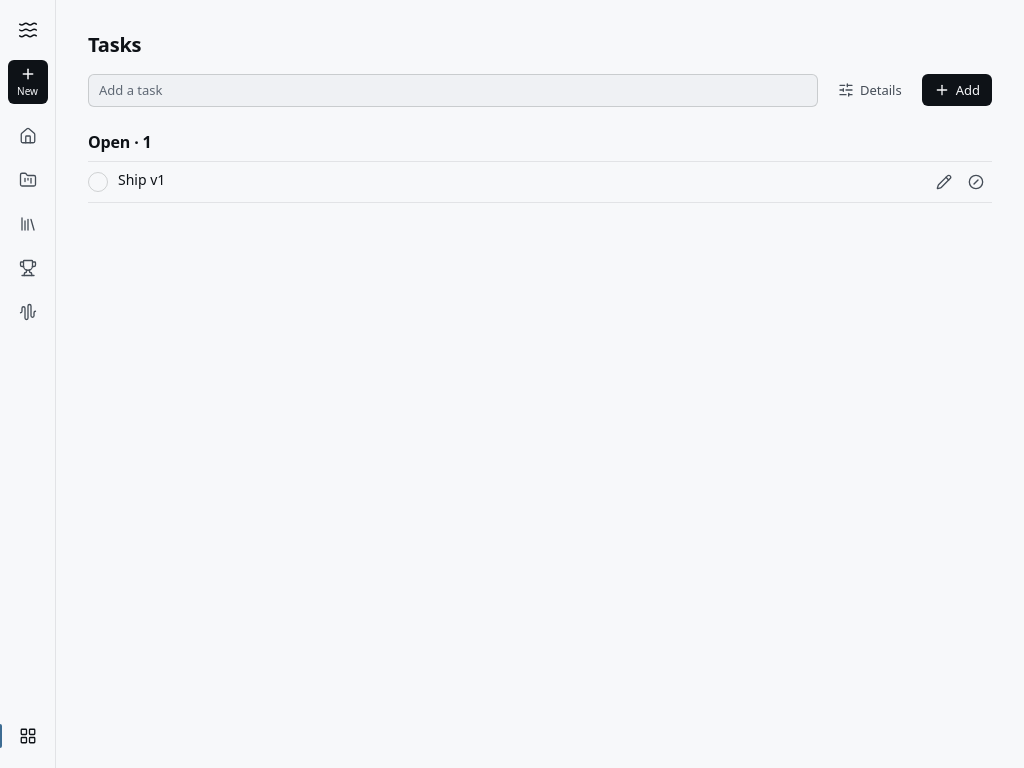
Test case: v2.1 creation and editing in the app › adds subtasks from the task editor and shows them under their parent
Expected: the heading "Tasks" is shown, [88,31,141,58]
Click the button named "Edit: Ship v1" at x=944, y=182, box [928,166,960,198]
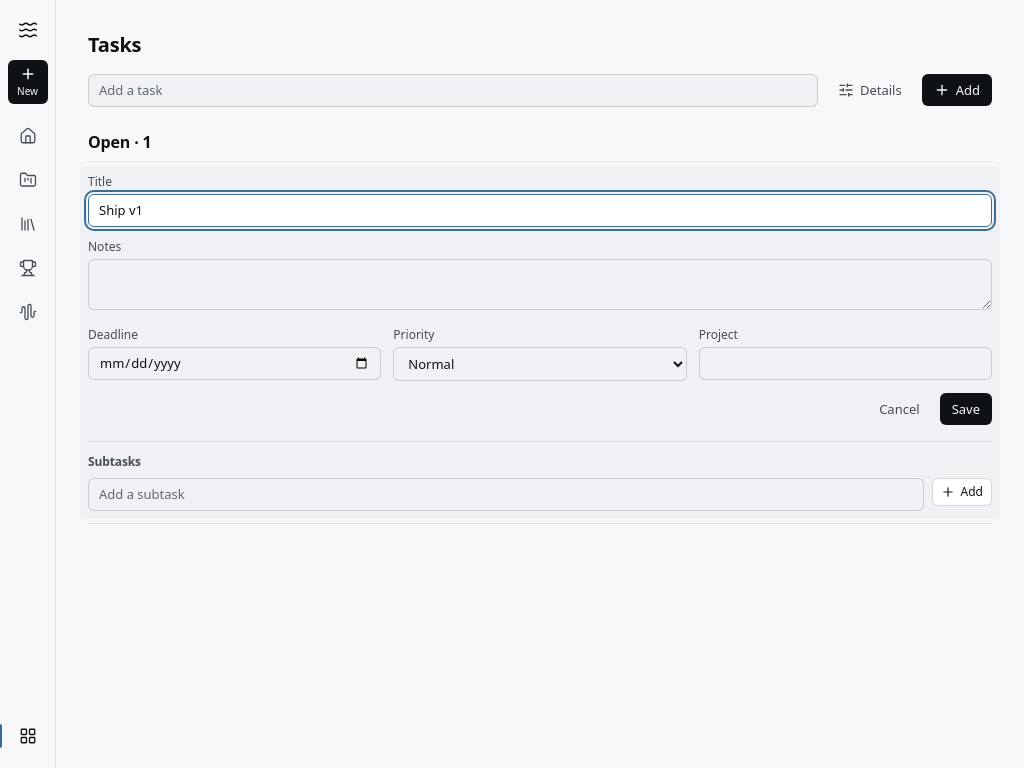
Type "Write docs" into the field labelled "Add a subtask" at x=506, y=494, box [88,478,924,511]
Then press Enter
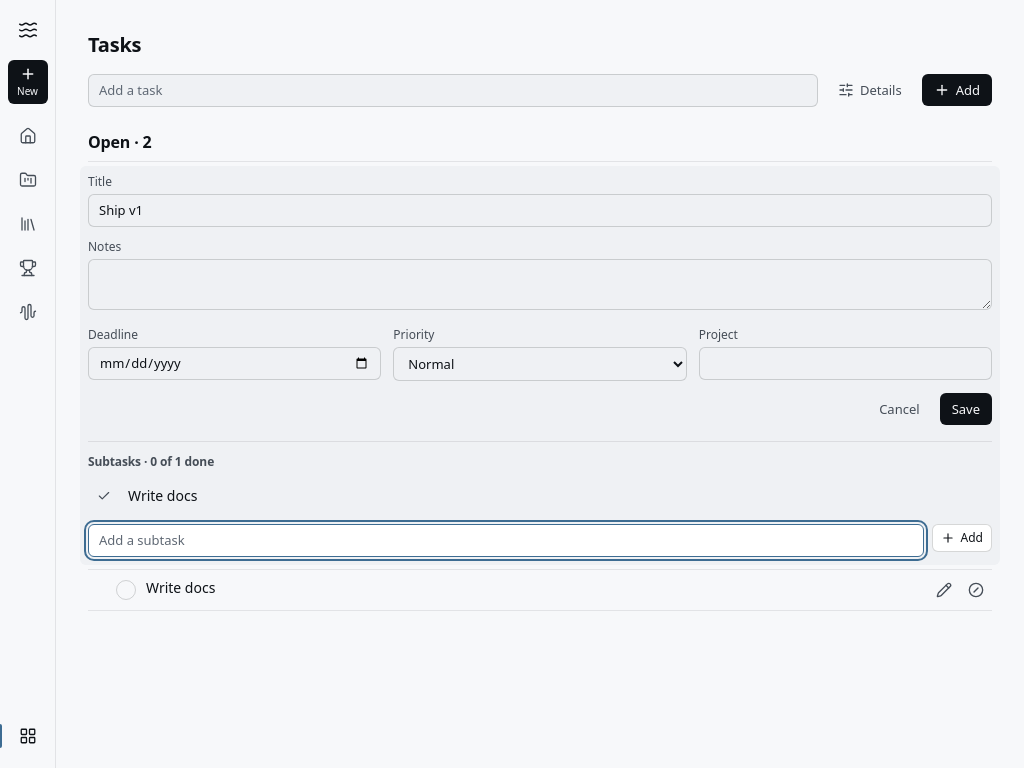
Result: the text "Write docs" below "Subtasks" is shown at [128,486,197,505]
Click the button named "Complete: Write docs" below "Subtasks" at x=104, y=496, box [88,480,120,512]
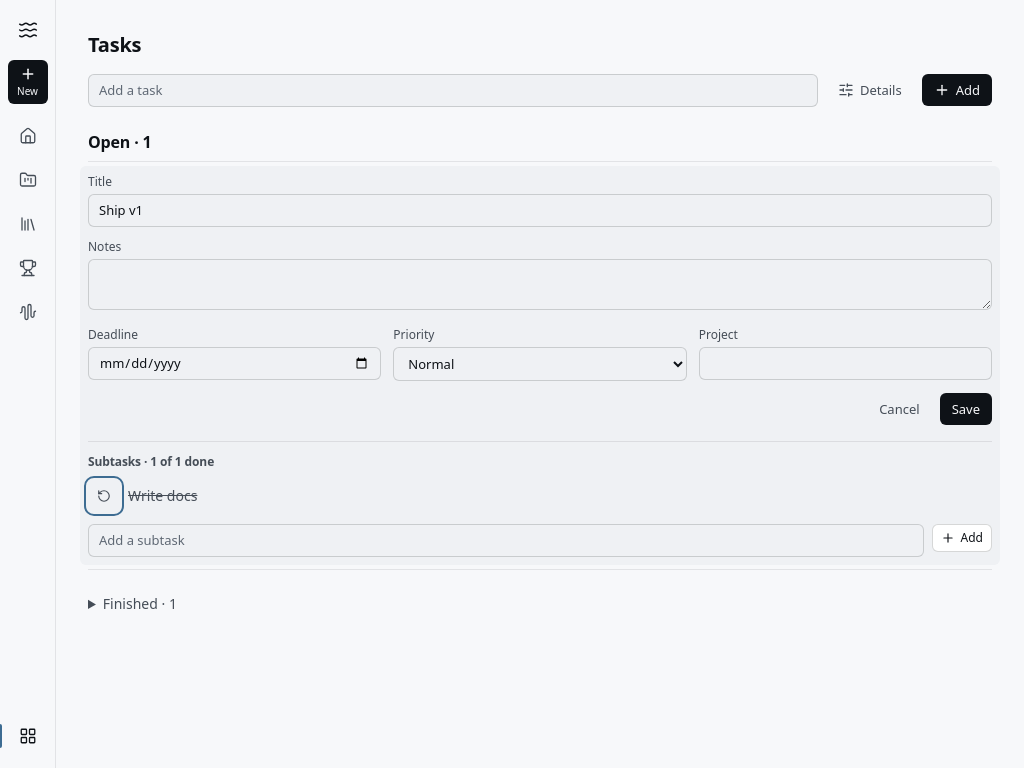
Result: the heading "Subtasks · 1 of 1 done" is shown at [88,453,214,470]
